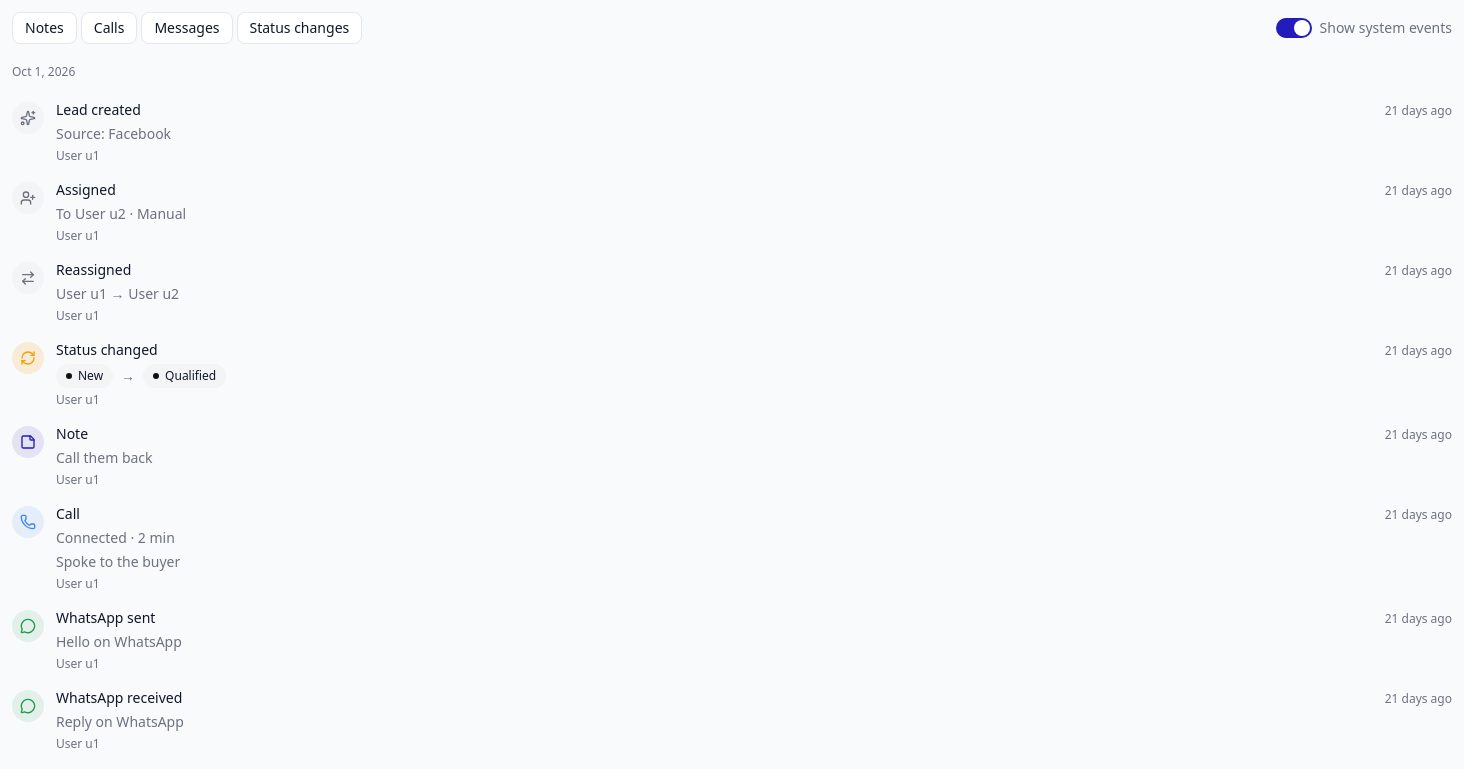
Scenario: Timeline › filters by chip and hides system events
Click the button "Notes" at (44, 28), box [12,12,77,44]
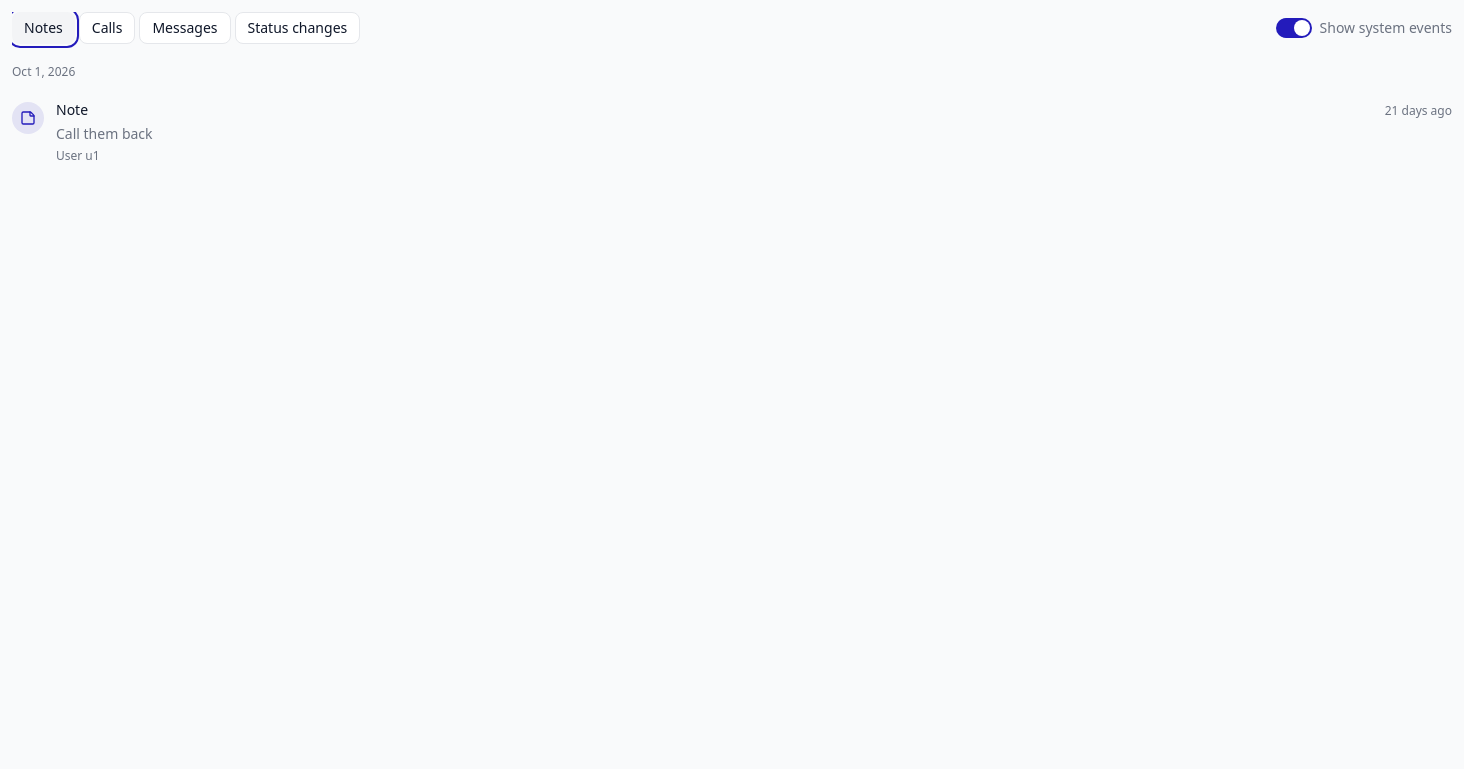
Expected: the text "Call them back" is shown, [56,124,153,143]
Expected: the text "Connected" is gone
Expected: the text "Facebook" is gone
Click the button "Notes" at (43, 28), box [12,12,75,44]
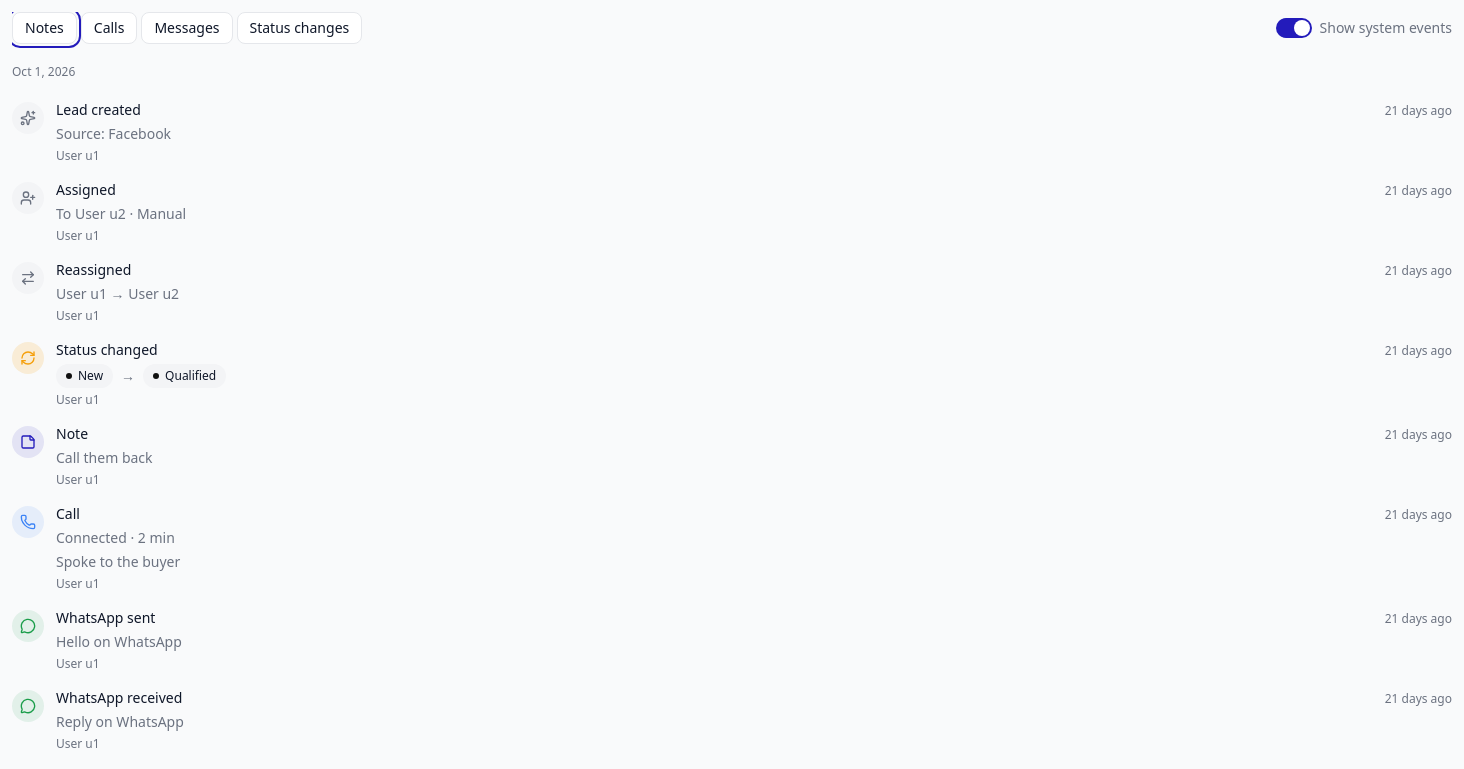
Expected: the text "Source: Facebook" is shown, [56,124,171,143]
Click the switch named "Show system events" at (1294, 28), box [1276,18,1312,38]
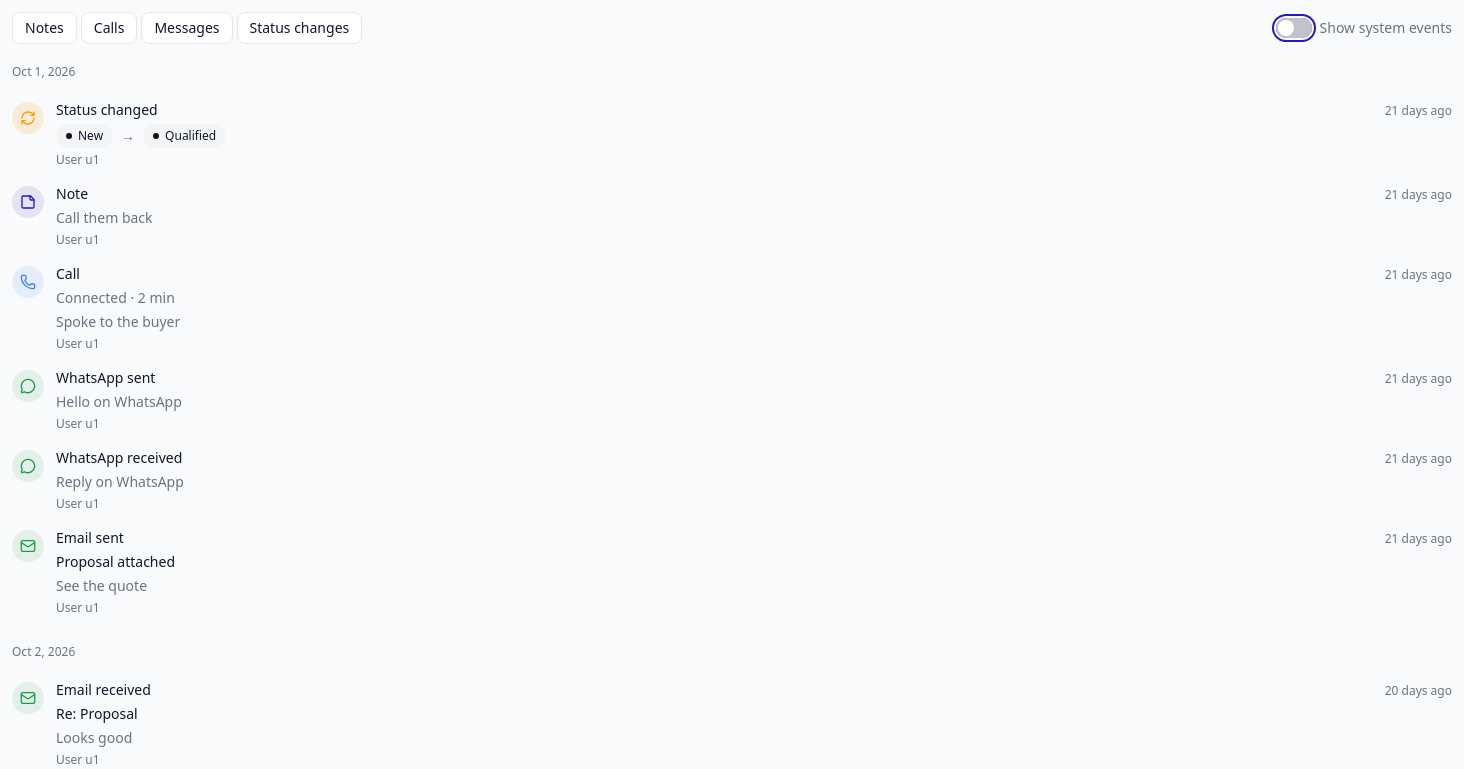
Expected: the text "Call them back" is shown, [56,208,153,227]
Expected: the text "Facebook" is gone
